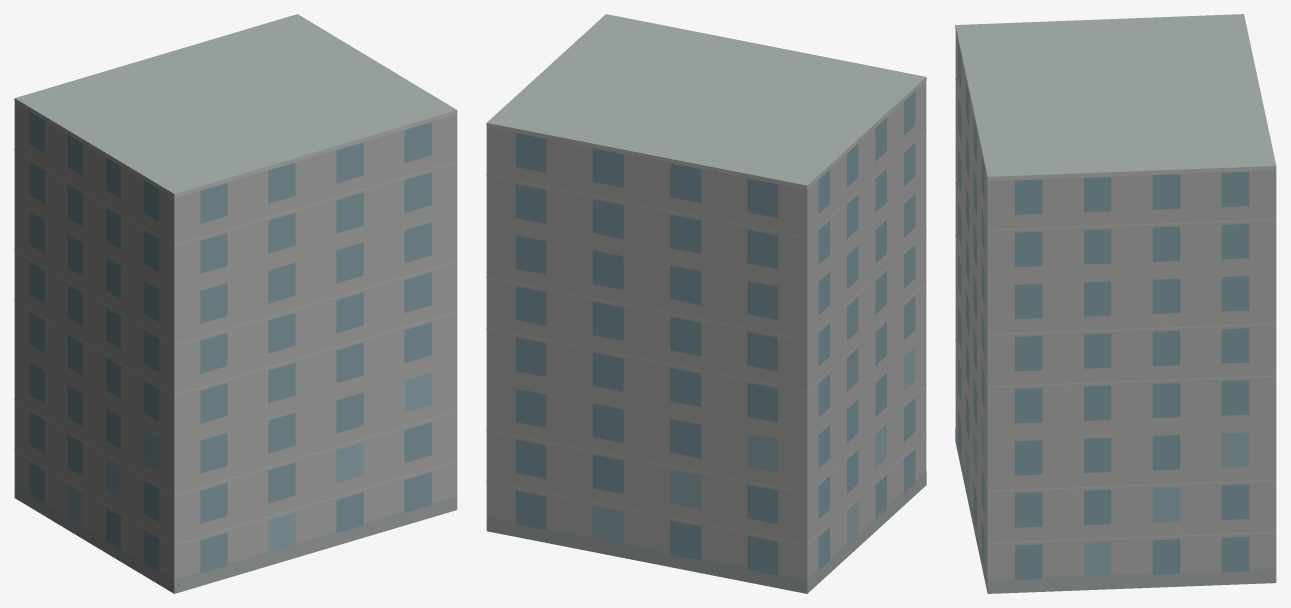
The model's file is residential-d6d64ce3-fb6c-4f44-b7f8-584429e5d099.glb.
The picture shows the model from 3 angles, left to right: view 1: azimuth 30°, elevation 25°; view 2: azimuth 150°, elevation 25°; view 3: azimuth 270°, elevation 25°; orthographic projection. The views are drawn at different scales.
Parts seen in each view (by area): view 1: residential-d6d64ce3-fb6c-4f44-b7f8-584429e5d099.tmp; view 2: residential-d6d64ce3-fb6c-4f44-b7f8-584429e5d099.tmp; view 3: residential-d6d64ce3-fb6c-4f44-b7f8-584429e5d099.tmp.
Boxes of the visible parts, x1,y1,x2,y2 form: residential-d6d64ce3-fb6c-4f44-b7f8-584429e5d099.tmp: (14,14,457,593); residential-d6d64ce3-fb6c-4f44-b7f8-584429e5d099.tmp: (486,14,926,593); residential-d6d64ce3-fb6c-4f44-b7f8-584429e5d099.tmp: (955,14,1276,593).
Size of the model in its own units: 20.46 by 24.4 by 17.04.
